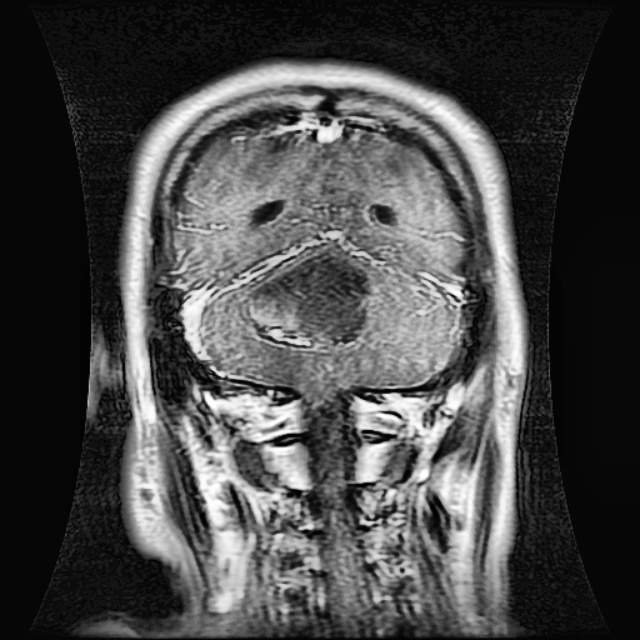Meningioma: (245, 252, 373, 348)
